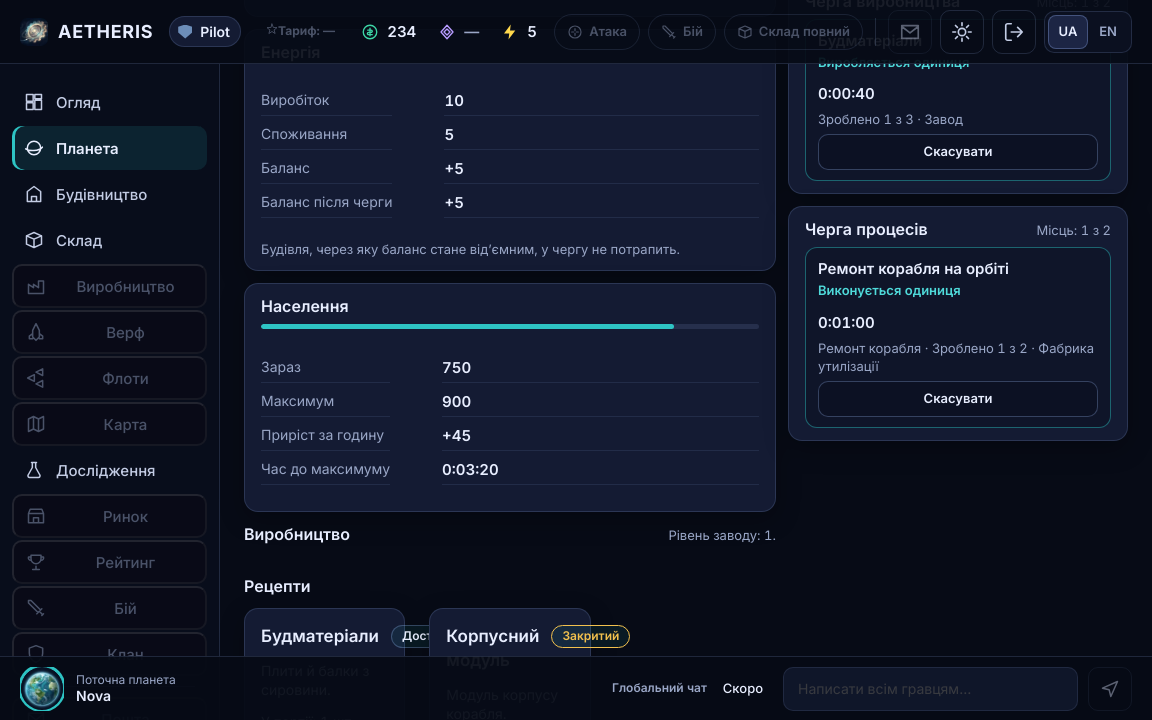
the queues of the production and of the processes on /planet › cancels an order of the processes and reads the processes again
The image size is (1152, 720).
(page scrolled)
Click the button with aria-label "Скасувати: Ремонт корабля на орбіті": click(958, 399) x1=818 y1=381 x2=1098 y2=417
(page scrolled)
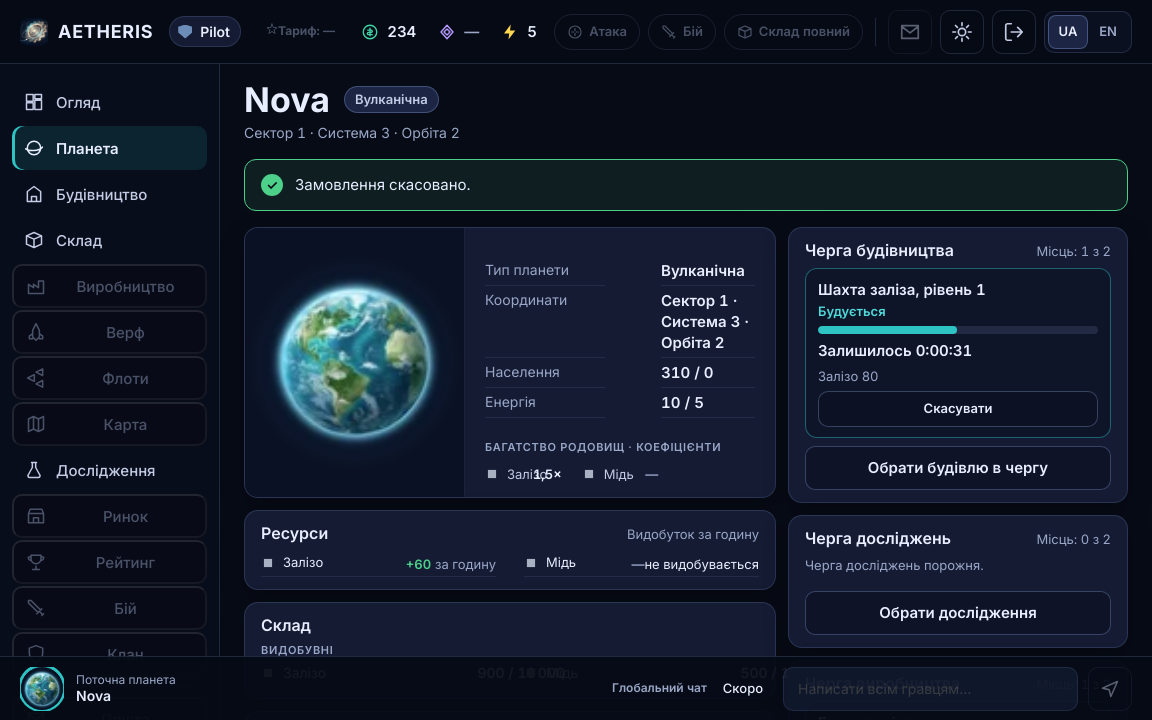
Expected: the text "Замовлення скасовано." is shown, x1=295 y1=174 x2=470 y2=195
